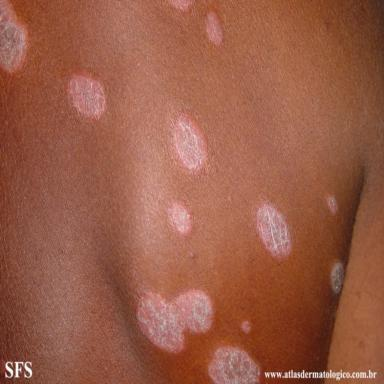Psoriasis: (137, 289, 215, 353), (173, 112, 207, 173), (0, 0, 28, 74), (256, 202, 292, 259), (67, 73, 106, 121), (209, 347, 260, 383), (168, 201, 193, 236), (206, 11, 223, 46), (331, 262, 345, 295), (169, 0, 191, 12), (326, 196, 337, 214), (241, 320, 251, 334)
